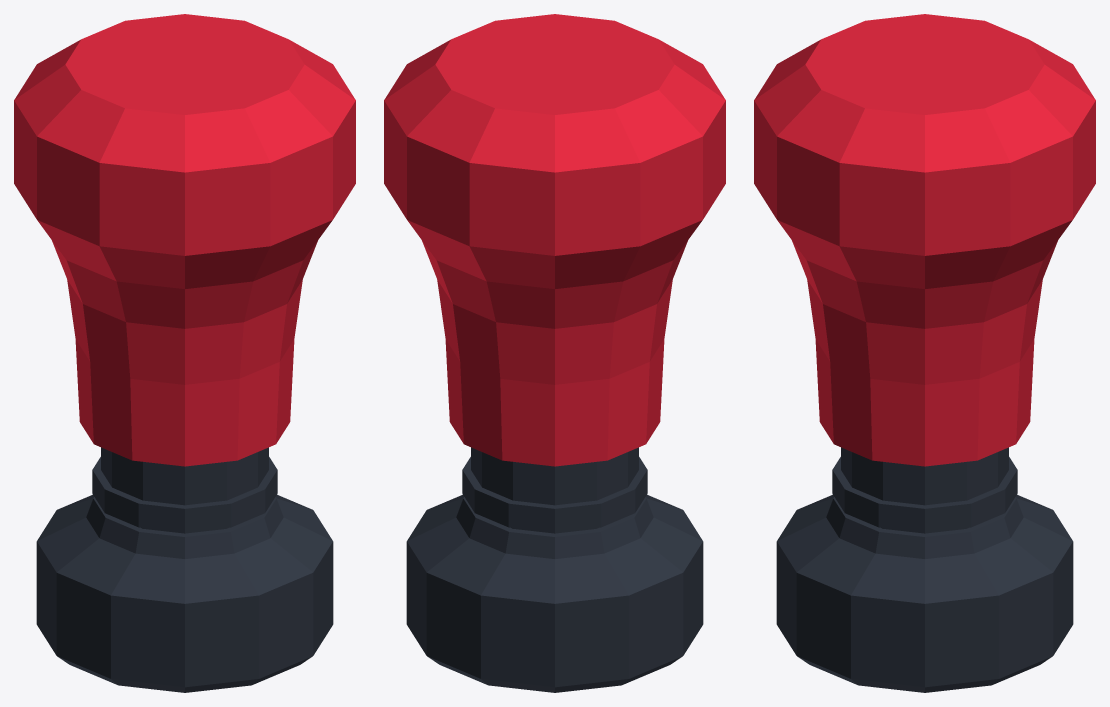
File: Stample.fbx
3 renders of one model, left to right at view 1: azimuth 30°, elevation 25°; view 2: azimuth 150°, elevation 25°; view 3: azimuth 270°, elevation 25°, orthographic.
Parts seen in each view (by area): view 1: Stample; view 2: Stample; view 3: Stample.
Part boxes in pixels (box(x1,y1,x2,y2)): Stample: box(14, 14, 355, 692); Stample: box(384, 14, 725, 692); Stample: box(754, 14, 1095, 692).
Bounding box in the file's own units: 130 × 240 × 130.
